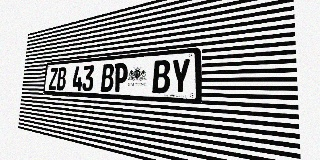3: (82, 65, 94, 91)
4: (72, 66, 83, 91)
B: (152, 60, 171, 94), (101, 64, 114, 92), (56, 67, 67, 90)
P: (113, 63, 128, 92)
Y: (170, 58, 191, 94)
Z: (48, 68, 58, 90)
